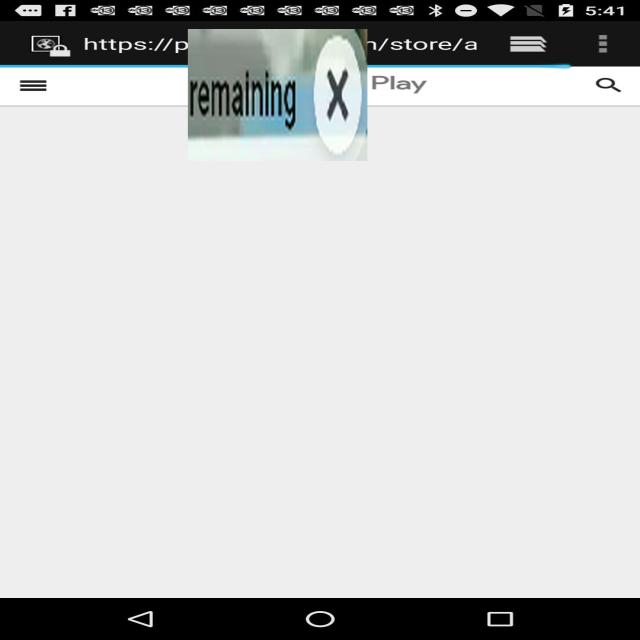misdirection: (188, 29, 367, 161)
